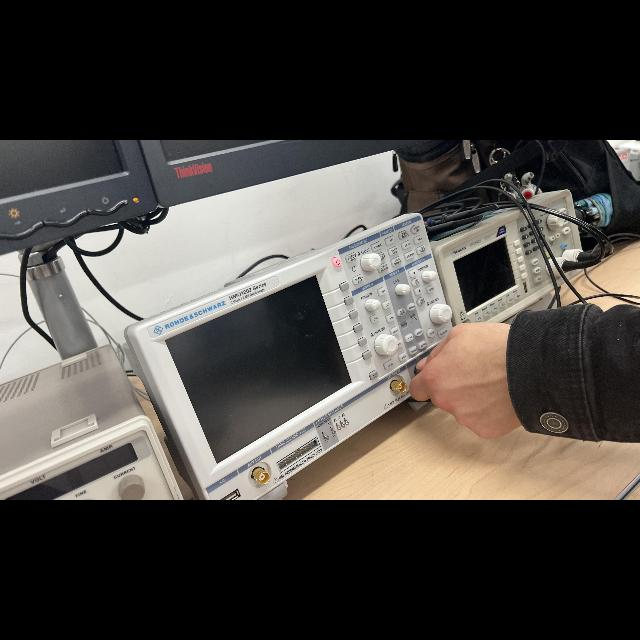Digital-Oscilloscope: (125, 214, 453, 500)
